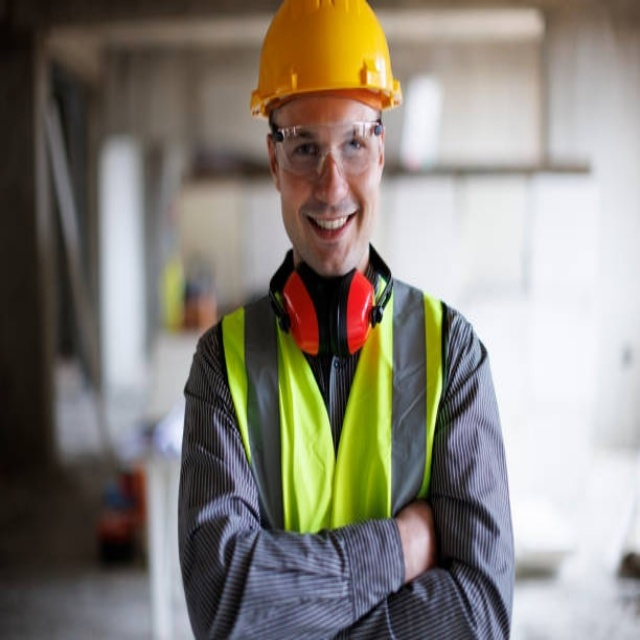Gafas: (271, 118, 385, 174)
Sin_mascara: (301, 204, 363, 257)
